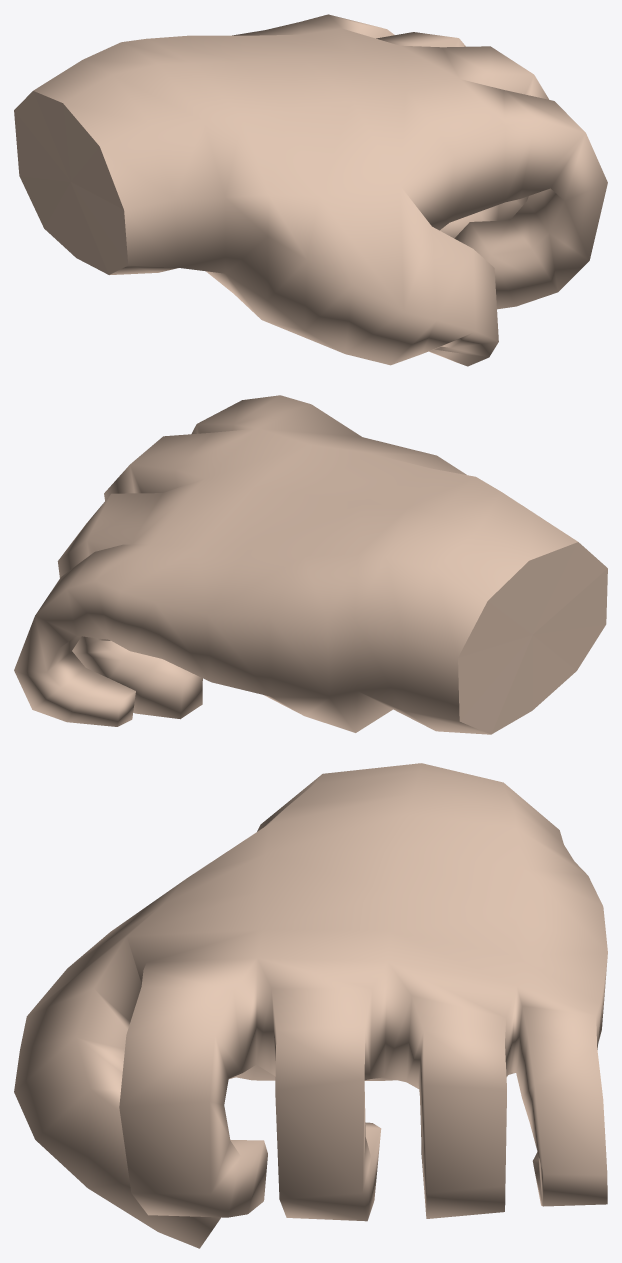
Rendered from el_model_with_anim.fbx.
3 renders of one model, top to bottom at view 1: azimuth 30°, elevation 25°; view 2: azimuth 150°, elevation 25°; view 3: azimuth 270°, elevation 25°, orthographic. The views are drawn at different scales.
Visible parts, largest first — view 1: AnatomyHandHumanMale:hand_basemesh; view 2: AnatomyHandHumanMale:hand_basemesh; view 3: AnatomyHandHumanMale:hand_basemesh.
Boxes of the visible parts, x1,y1,x2,y2 form: AnatomyHandHumanMale:hand_basemesh: [14, 14, 607, 366]; AnatomyHandHumanMale:hand_basemesh: [14, 395, 607, 734]; AnatomyHandHumanMale:hand_basemesh: [14, 763, 607, 1248].
Bounding box in the file's own units: 1.31 × 0.8101 × 1.3.
